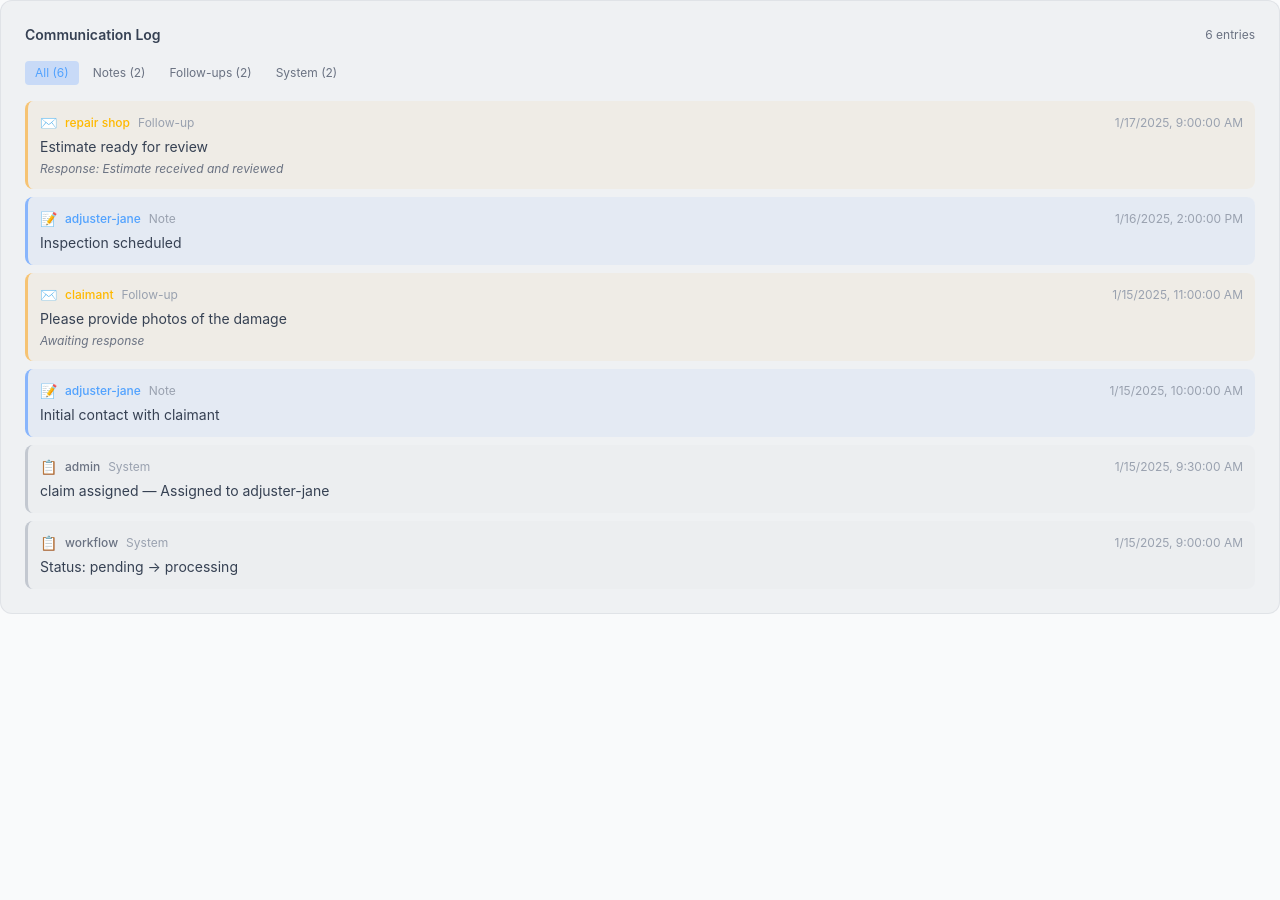
Scenario: CommunicationLog › filters by notes
Step 1. Click the button "Notes (2)" → (119, 73), box [83,61,156,85]
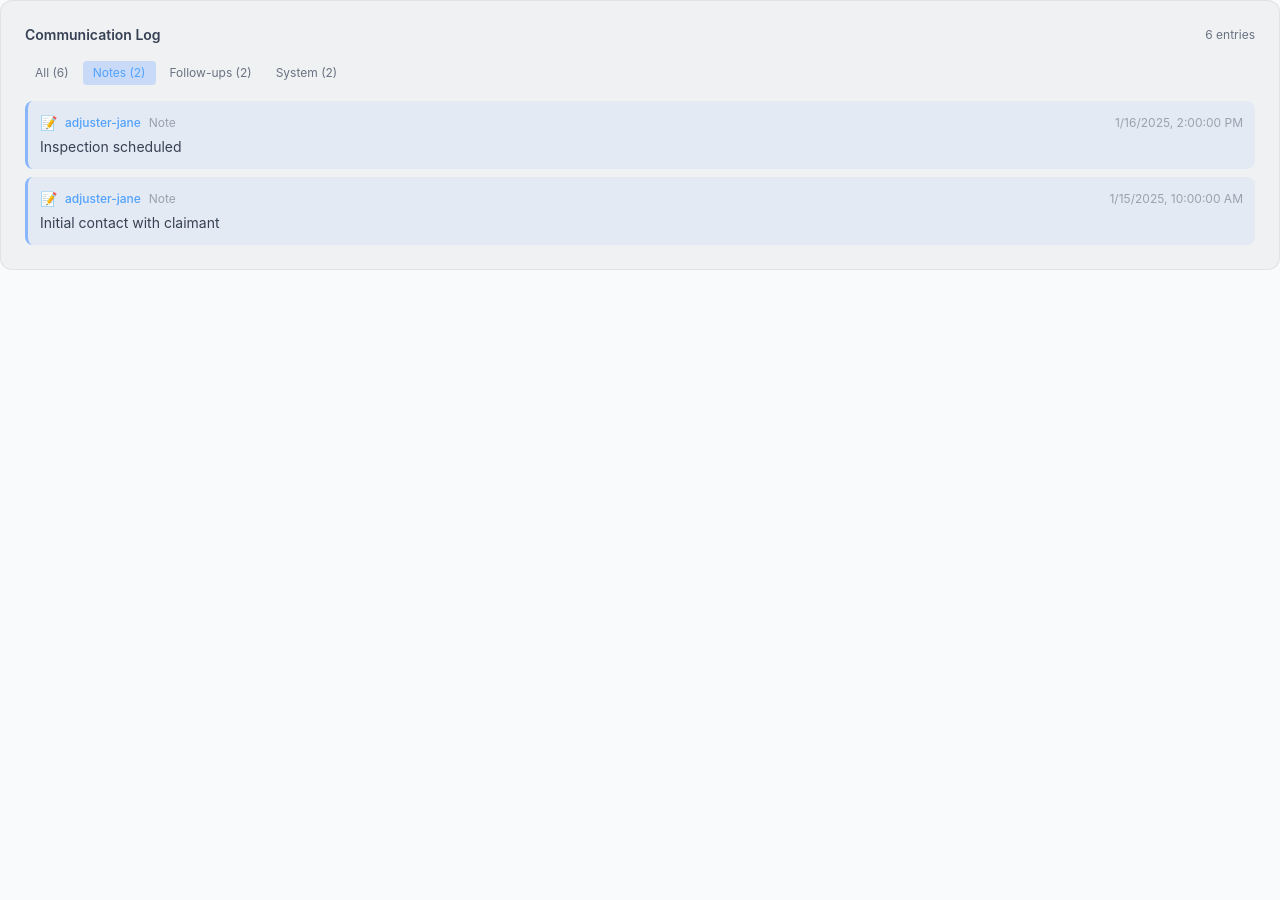
Expected: the text "Initial contact with claimant" is shown, [40,214,220,231]
Now the text "Please provide photos of the damage" is gone
